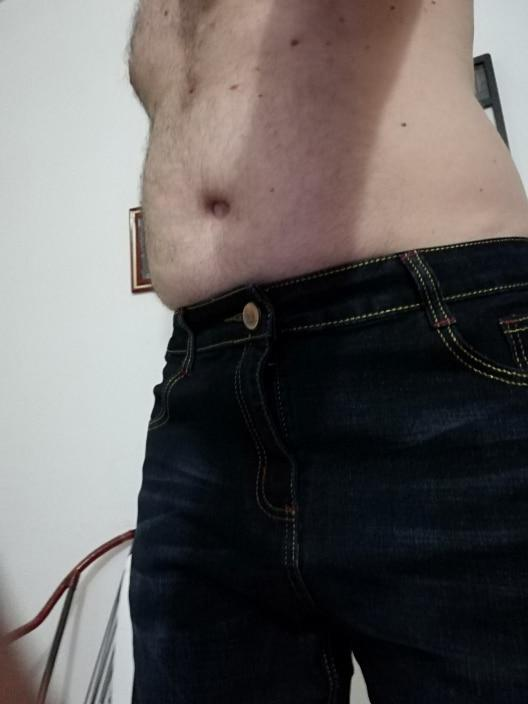jeans: (125, 246, 514, 704)
